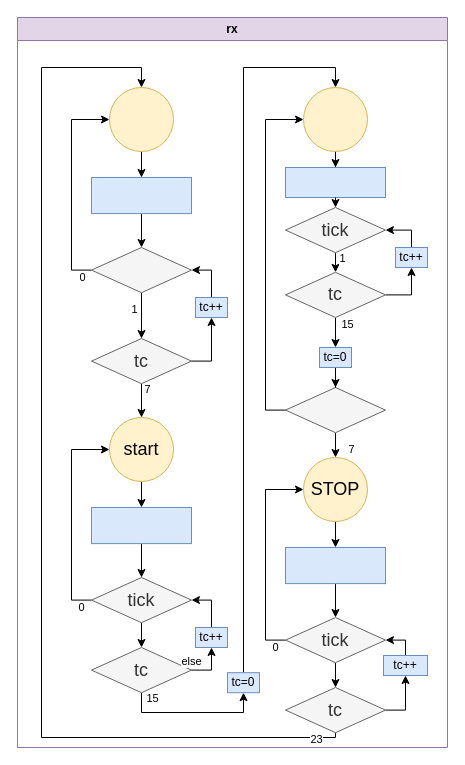
Image size: 465x765. Some labels were removed from this diagram. Each missing label, with the box of its shape:
count: (284, 386, 386, 433)
DATA[count] count = count + 1: (284, 166, 386, 198)
idle: (108, 86, 174, 152)
RUN: (302, 86, 368, 152)
trigger: (90, 246, 192, 293)
tx = 0 count_tick = 0: (90, 506, 192, 544)
tx = 1: (284, 546, 386, 584)
tx = 1 tc = 0: (90, 176, 192, 214)
